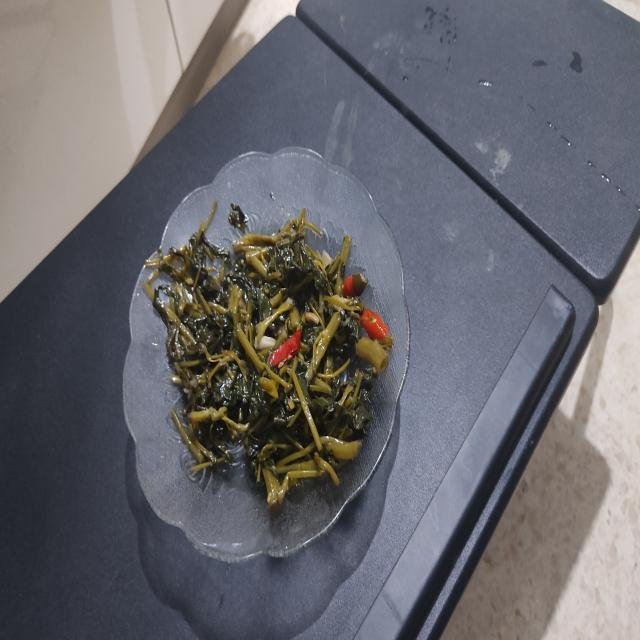tumis_kangkung: (154, 208, 392, 510)
